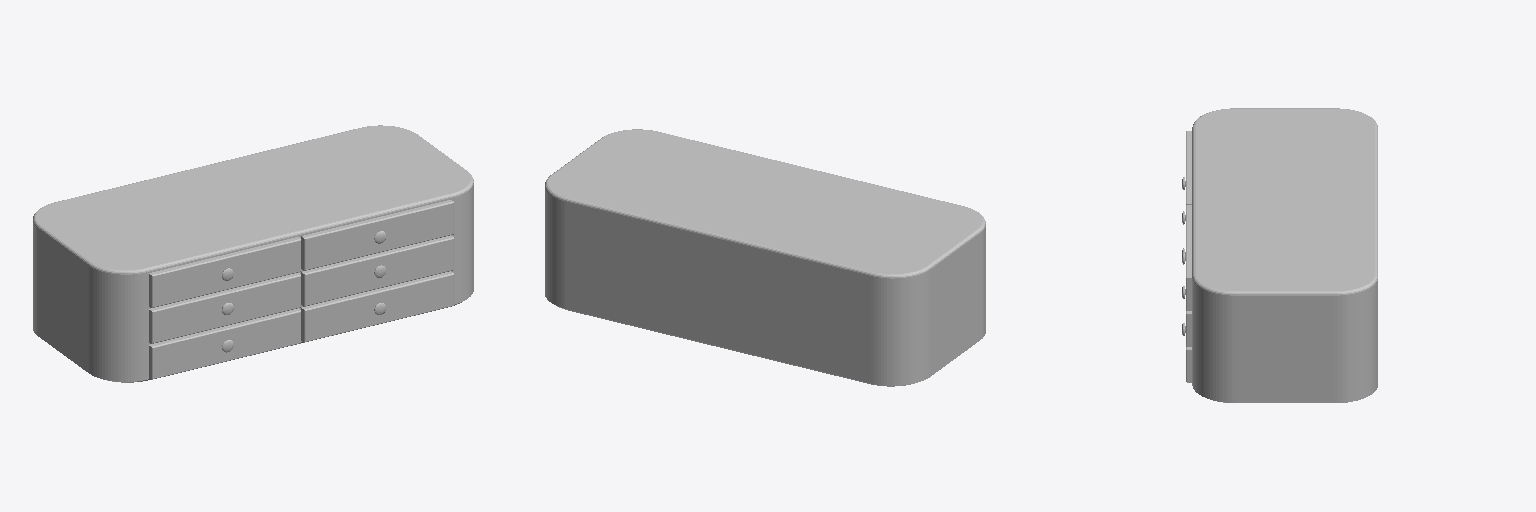
The model's file is Mesa_da_TV.obj.
The picture shows the model from 3 angles: view 1: azimuth 30°, elevation 25°; view 2: azimuth 150°, elevation 25°; view 3: azimuth 270°, elevation 25°; orthographic projection.
Parts seen in each view (by area): view 1: Mesa_de_Teve; view 2: Mesa_de_Teve; view 3: Mesa_de_Teve.
Part boxes in pixels (bbox=[...]): Mesa_de_Teve: bbox=[33, 125, 473, 382]; Mesa_de_Teve: bbox=[545, 129, 985, 386]; Mesa_de_Teve: bbox=[1182, 108, 1377, 402].
Size of the model in its own units: 3.81 by 1.07 by 1.7.